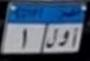1: (20, 27, 29, 51)
alif: (71, 26, 79, 49)
laam: (45, 26, 58, 49)
waw: (58, 28, 69, 49)
